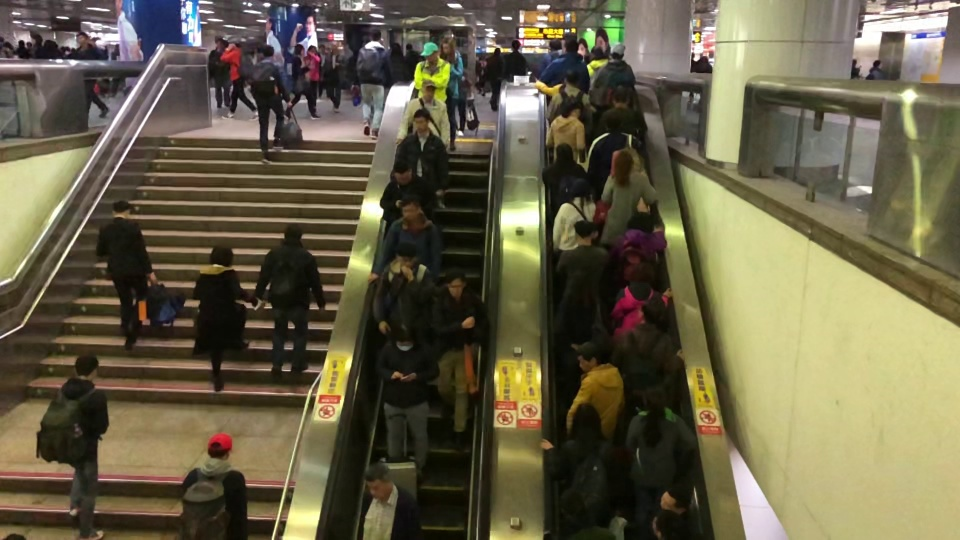person_head: (569, 400, 606, 441), (363, 460, 393, 502), (660, 481, 693, 517), (558, 488, 589, 520), (570, 340, 600, 372), (651, 510, 683, 539), (391, 318, 418, 352), (443, 264, 467, 301), (611, 149, 634, 187), (206, 431, 233, 462), (395, 241, 421, 271), (641, 384, 667, 413), (573, 219, 598, 248), (567, 270, 591, 298), (625, 211, 654, 234), (74, 356, 100, 381), (398, 192, 422, 219), (636, 302, 661, 326), (208, 245, 235, 267), (628, 264, 655, 285), (392, 159, 413, 185), (560, 95, 582, 119), (412, 106, 430, 134), (611, 83, 631, 108), (438, 37, 456, 64), (605, 110, 626, 133), (420, 41, 440, 64), (569, 177, 590, 198), (420, 76, 437, 101), (110, 199, 131, 219), (283, 222, 302, 243), (555, 142, 573, 164), (564, 68, 582, 89), (610, 44, 626, 63), (563, 38, 579, 54), (260, 43, 275, 58), (590, 44, 604, 60), (75, 31, 89, 46), (29, 32, 43, 46), (391, 41, 403, 57), (227, 35, 241, 48), (871, 58, 886, 70), (292, 43, 305, 56), (370, 28, 382, 42), (510, 38, 522, 52), (549, 39, 562, 51), (215, 37, 226, 51), (306, 45, 318, 56), (330, 41, 338, 53), (341, 39, 349, 50), (493, 46, 501, 56), (406, 41, 413, 51)
person_vbox: (35, 354, 109, 540), (541, 401, 634, 524), (429, 268, 490, 450), (374, 319, 441, 481), (256, 223, 326, 375), (192, 245, 258, 393), (95, 198, 158, 351), (176, 429, 251, 540), (624, 384, 698, 495), (612, 302, 685, 409), (366, 196, 443, 292), (396, 77, 450, 208), (236, 44, 293, 164), (371, 243, 439, 338), (567, 341, 626, 442), (556, 219, 610, 329), (393, 108, 450, 211), (600, 149, 659, 245), (588, 109, 649, 201), (355, 459, 424, 540), (608, 212, 669, 290), (610, 263, 673, 338), (356, 26, 397, 140), (379, 156, 439, 233), (555, 269, 609, 344), (541, 140, 591, 216), (542, 490, 617, 540), (551, 175, 597, 254), (545, 69, 596, 140), (220, 34, 260, 122), (72, 29, 111, 118), (597, 83, 648, 144), (592, 42, 636, 112), (283, 42, 322, 120), (547, 98, 589, 170), (438, 37, 464, 151), (539, 40, 590, 93), (329, 38, 362, 113), (412, 42, 450, 105), (209, 35, 232, 108), (324, 41, 345, 113), (483, 47, 503, 111), (502, 38, 529, 82), (303, 44, 320, 113), (537, 37, 565, 77), (388, 41, 410, 89), (403, 39, 424, 85), (587, 44, 609, 82), (26, 30, 48, 59), (864, 58, 887, 81), (535, 81, 564, 97)
